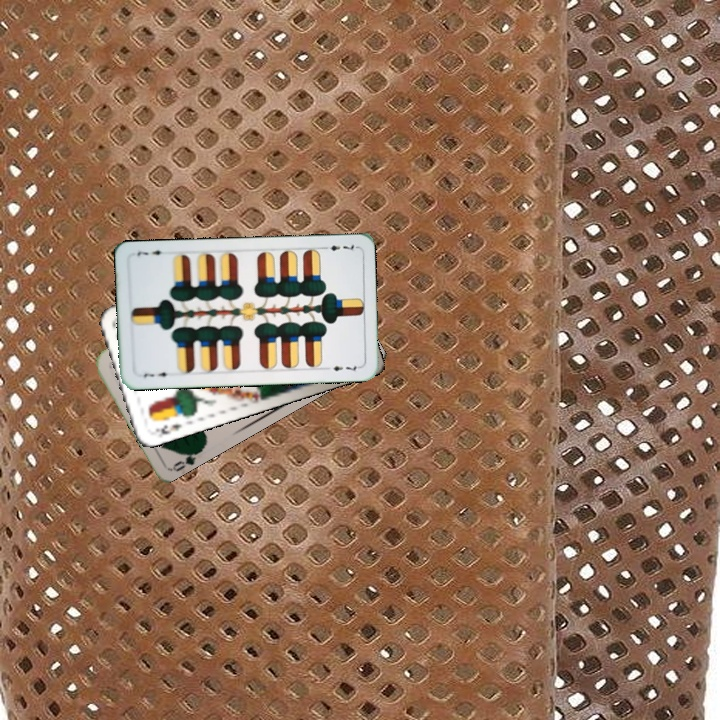E7: (318, 240, 358, 253), (140, 368, 174, 380)
EK: (151, 420, 185, 437)
GO: (169, 445, 205, 474)
